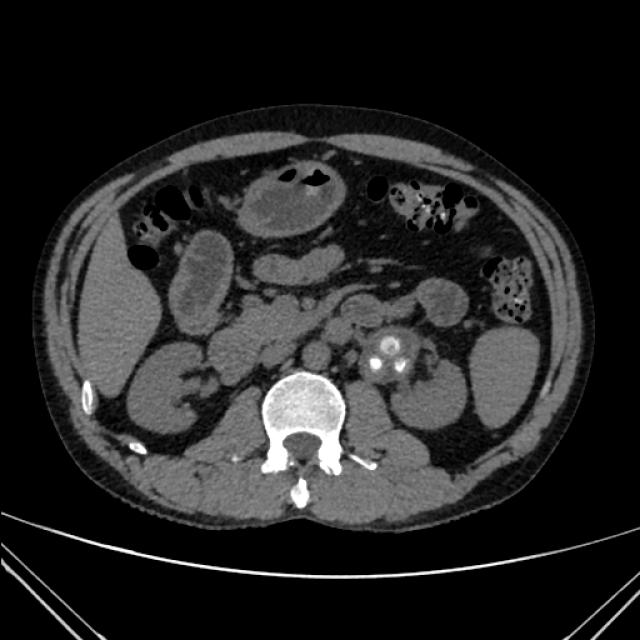kidneystone: (359, 328, 422, 384)
